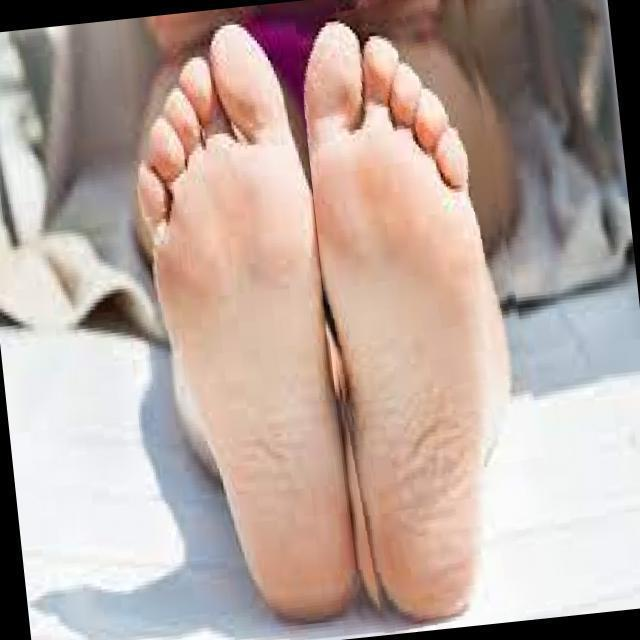No_Shoes: (133, 0, 314, 610), (341, 10, 483, 612)
